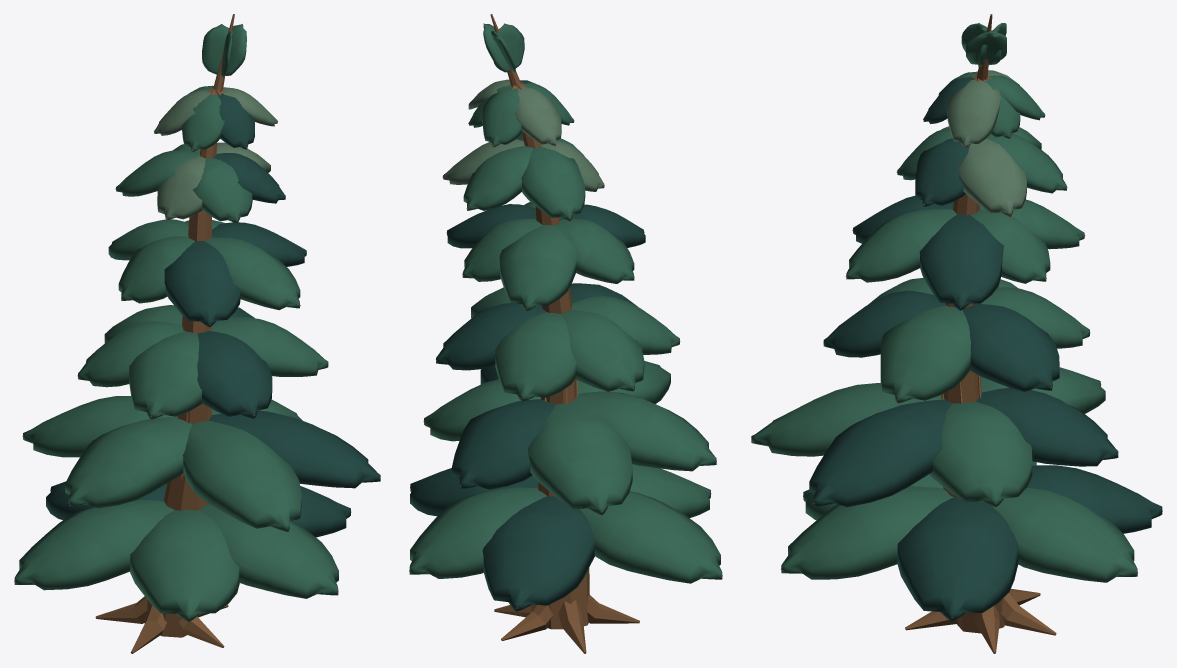
The model's file is pine_swept.glb.
3 views of the same model, side by side, from view 1: azimuth 30°, elevation 25°; view 2: azimuth 150°, elevation 25°; view 3: azimuth 270°, elevation 25° (orthographic). The views are drawn at different scales.
Visible parts, largest first — view 1: pine_swept; view 2: pine_swept; view 3: pine_swept.
Boxes of the visible parts, x1,y1,x2,y2 form: pine_swept: (14, 14, 380, 653); pine_swept: (409, 14, 722, 653); pine_swept: (751, 14, 1162, 653).
Bounding box in the file's own units: 3.09 × 5.44 × 3.14.
